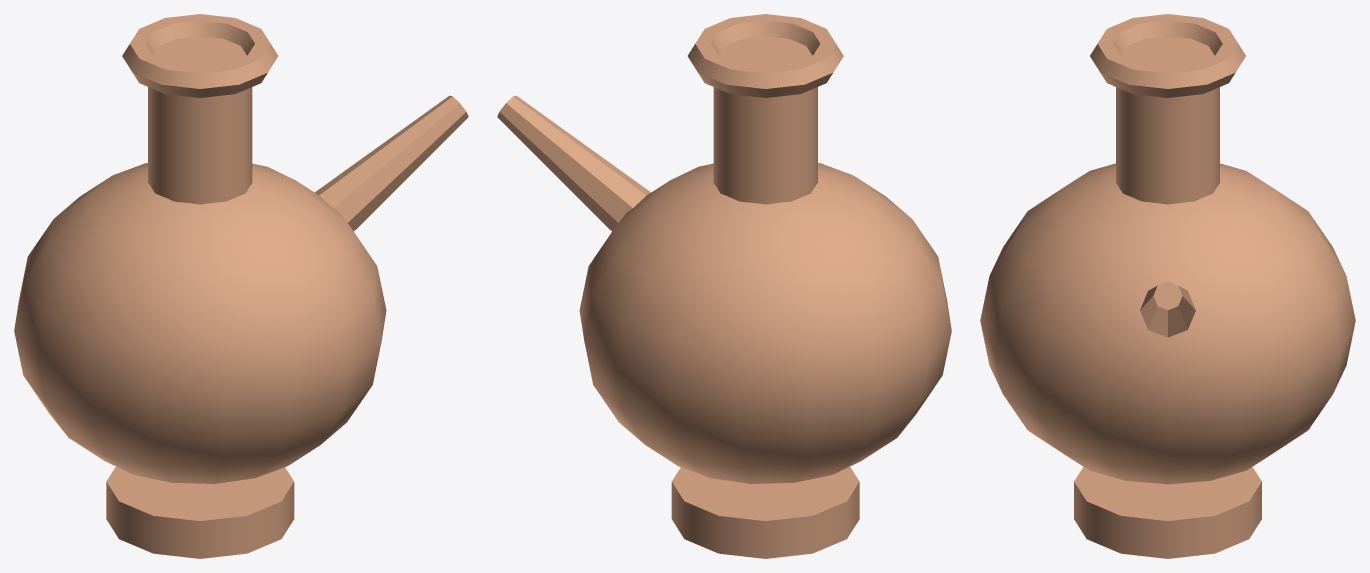
The model's file is Kendhi_Pot.fbx.
3 renders of one model, left to right at view 1: azimuth 30°, elevation 25°; view 2: azimuth 150°, elevation 25°; view 3: azimuth 270°, elevation 25°, orthographic.
Visible parts, largest first — view 1: Kendhi_Pot; view 2: Kendhi_Pot; view 3: Kendhi_Pot.
Boxes of the visible parts, x1,y1,x2,y2 form: Kendhi_Pot: (14, 14, 468, 558); Kendhi_Pot: (497, 14, 951, 558); Kendhi_Pot: (980, 14, 1355, 558).
Size of the model in its own units: 0.4736 by 0.503 by 0.36.
